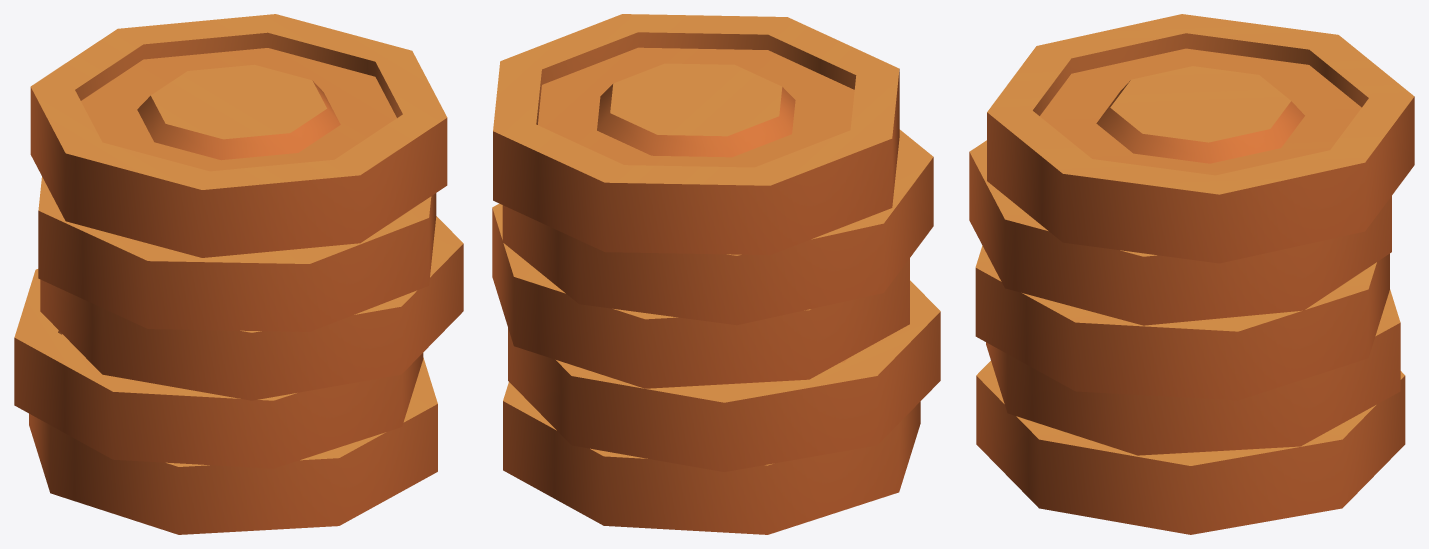
File: Coin_Column1.fbx
3 views of the same model, side by side, from view 1: azimuth 30°, elevation 25°; view 2: azimuth 150°, elevation 25°; view 3: azimuth 270°, elevation 25° (orthographic). The views are drawn at different scales.
Visible parts, largest first — view 1: Coin_Column1; view 2: Coin_Column1; view 3: Coin_Column1.
Boxes of the visible parts, x1,y1,x2,y2 form: Coin_Column1: [14, 14, 463, 534]; Coin_Column1: [492, 14, 940, 534]; Coin_Column1: [969, 14, 1414, 534].
Bounding box in the file's own units: 26.58 × 22.55 × 26.36.
